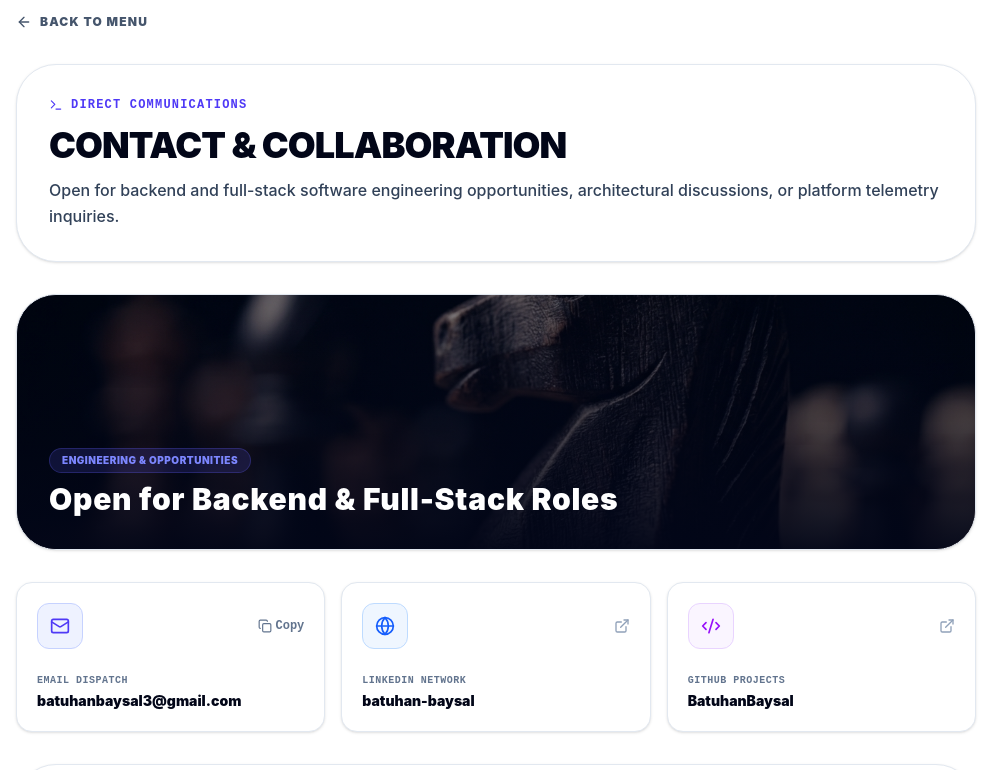
Test: Contact Component › copies email to clipboard and displays copied badge
Click the button "Copy Email Dispatch batuhanbaysal3@gmail.com": (60, 626) [16,582,325,732]
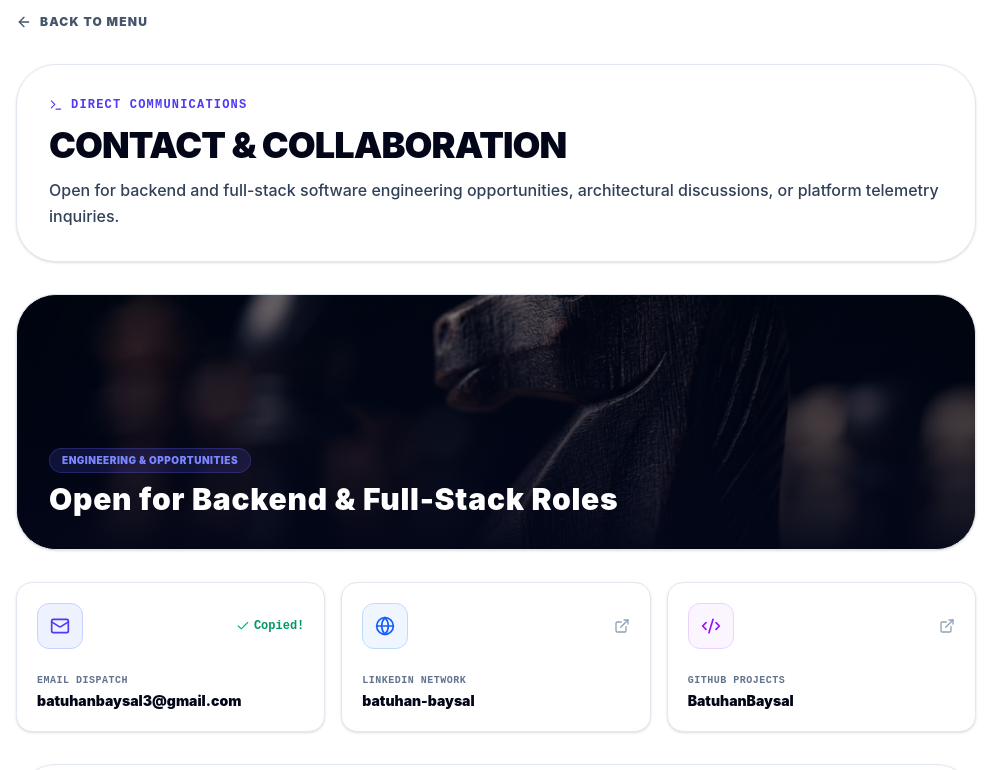
Now the text "Copied!" is shown, box [254,618,304,634]
